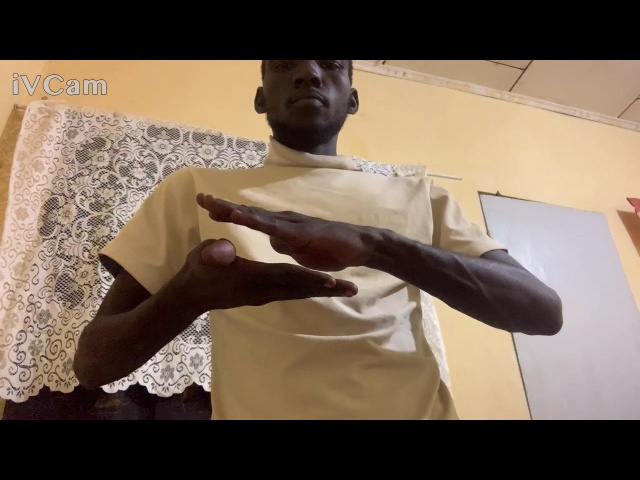pardon: (180, 190, 391, 318)
